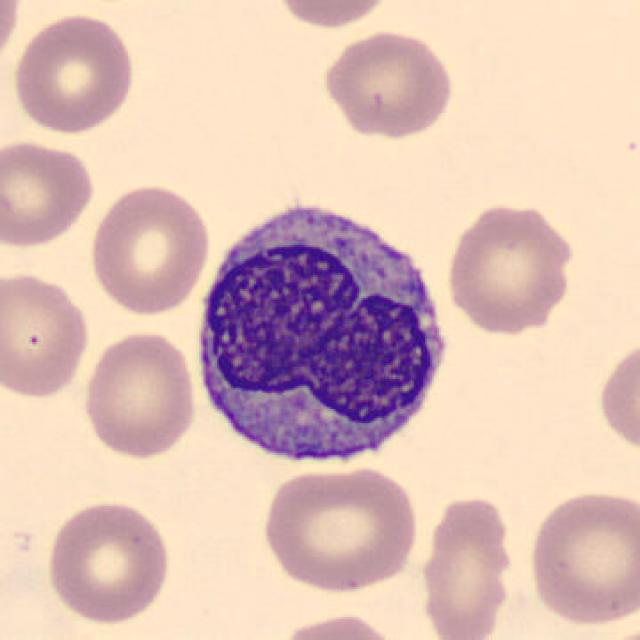Monocyte: (187, 190, 460, 480)
RBC: (258, 462, 421, 594), (442, 199, 578, 337), (85, 180, 214, 317), (43, 497, 174, 626), (9, 9, 139, 137), (523, 485, 638, 629), (78, 326, 199, 462), (318, 26, 457, 141), (416, 490, 519, 640), (0, 268, 92, 402), (0, 136, 98, 250), (594, 332, 638, 460), (268, 0, 398, 32), (270, 610, 406, 640), (0, 0, 25, 74)
